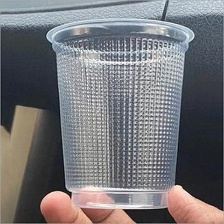glass: (39, 16, 199, 215)
